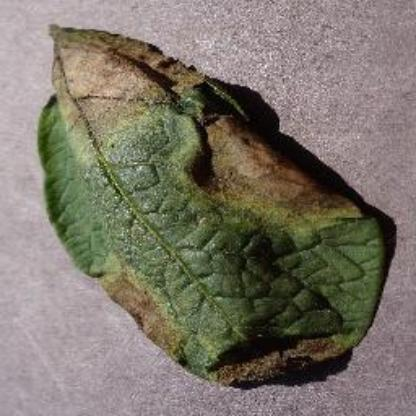Late-Blight: (25, 16, 392, 390)
